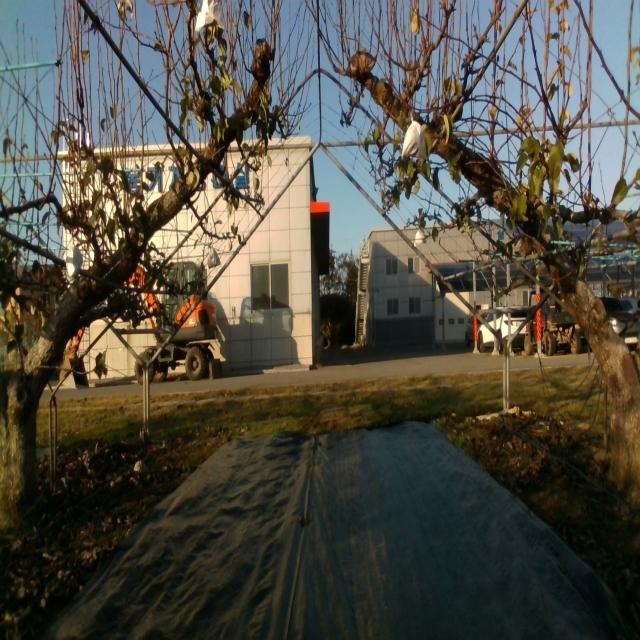pearbags: (402, 118, 428, 160), (196, 0, 222, 36), (66, 243, 84, 279), (207, 244, 221, 268), (414, 228, 426, 252)
